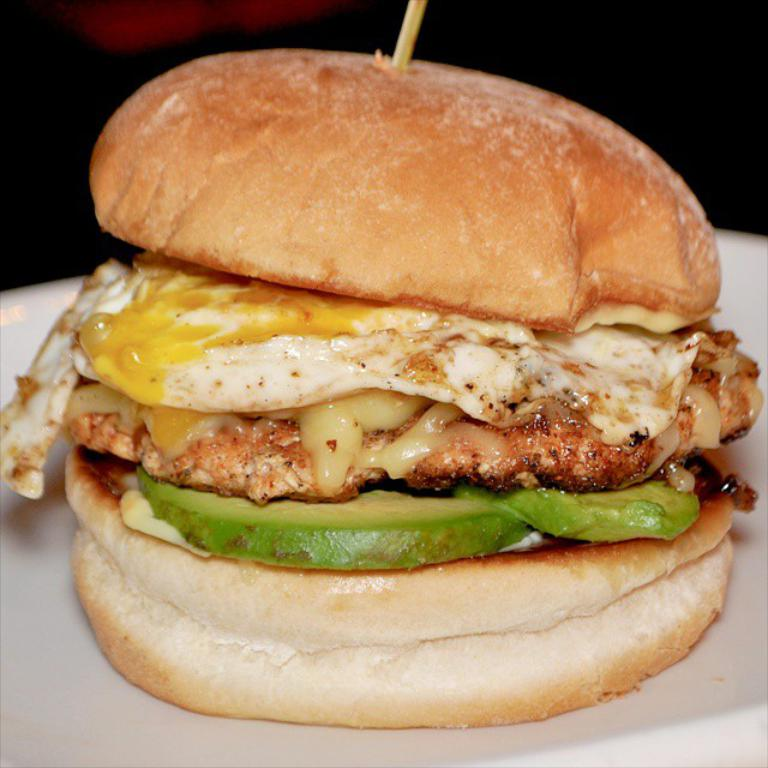Hamburger: (0, 51, 762, 732)
